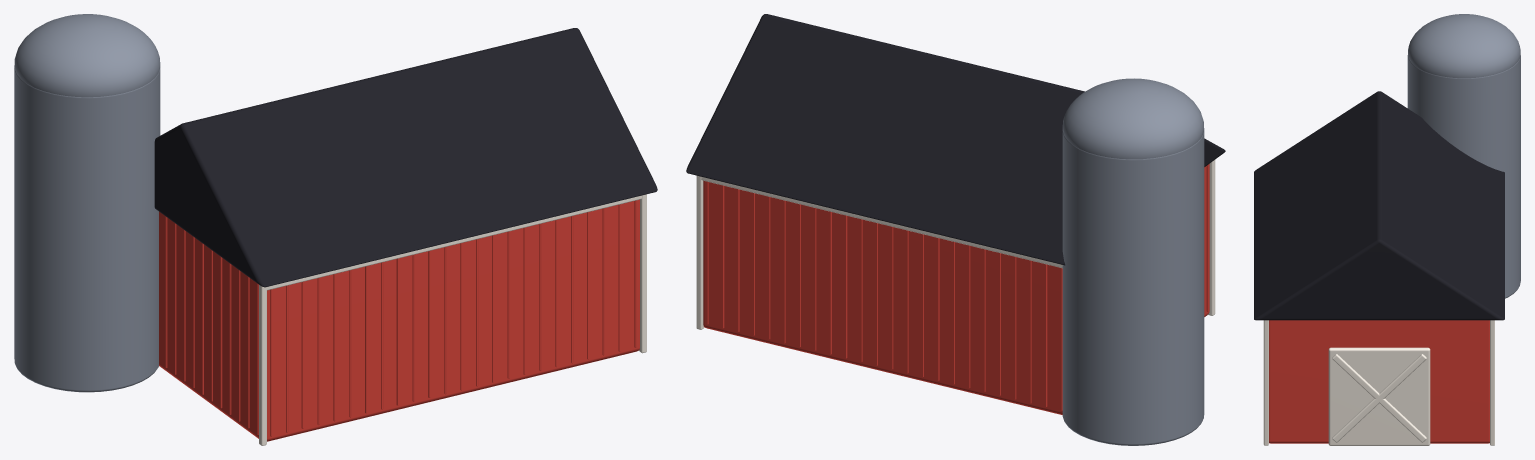
Rendered from barn.glb.
3 renders of one model, left to right at view 1: azimuth 30°, elevation 25°; view 2: azimuth 150°, elevation 25°; view 3: azimuth 270°, elevation 25°, orthographic. The views are drawn at different scales.
Parts seen in each view (by area): view 1: barn; view 2: barn; view 3: barn.
Boxes of the visible parts, x1,y1,x2,y2 form: barn: (14,14,657,445); barn: (686,14,1225,445); barn: (1254,14,1520,445).
Bounding box in the file's own units: 15.79 × 10.2 × 9.43.
1 material, 1 textured.
